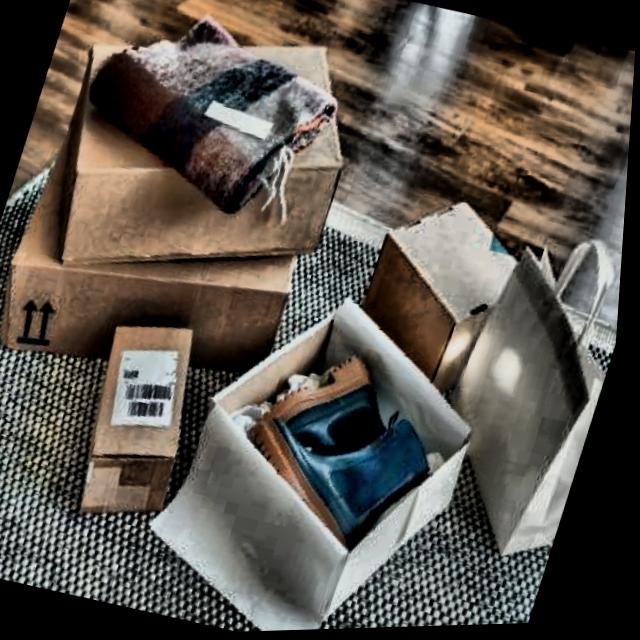Cardbox: (12, 0, 404, 330), (329, 173, 537, 405), (50, 307, 232, 536)
